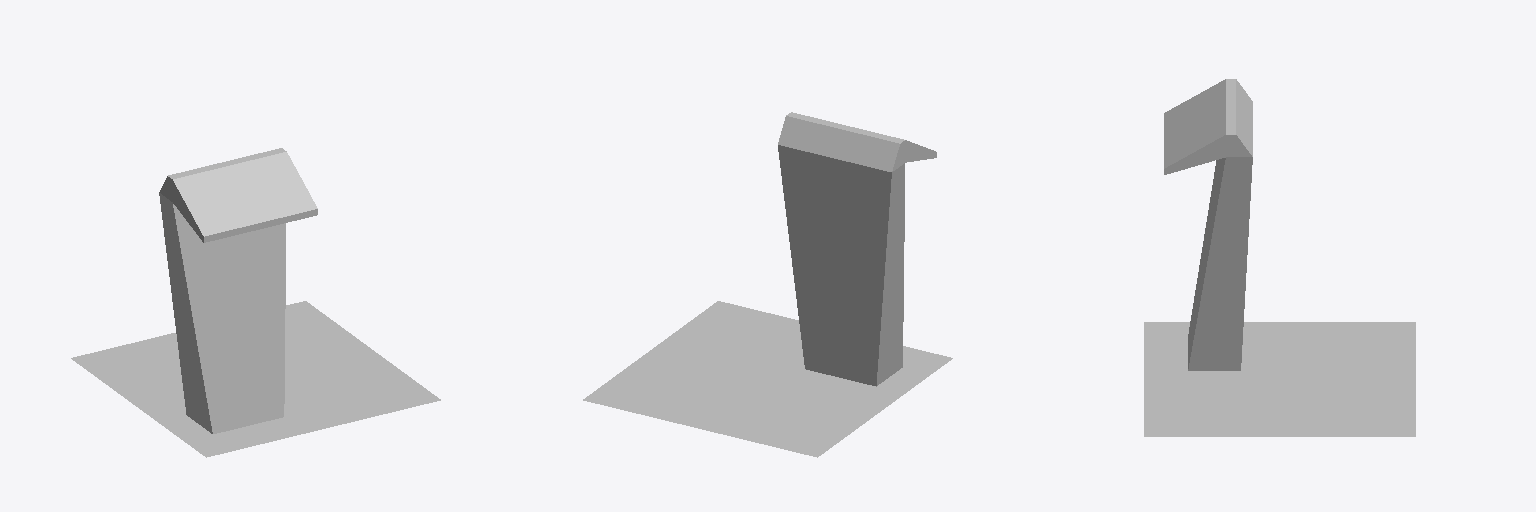
The model's file is logistics_station.obj.
3 renders of one model, left to right at view 1: azimuth 30°, elevation 25°; view 2: azimuth 150°, elevation 25°; view 3: azimuth 270°, elevation 25°, orthographic.
Parts seen in each view (by area): view 1: Cube, Reference_Plane; view 2: Cube, Reference_Plane; view 3: Reference_Plane, Cube.
Part boxes in pixels (x1,y1,x2,y2): Cube: (159,148,317,433); Reference_Plane: (71,301,440,457); Cube: (778,112,936,386); Reference_Plane: (583,301,952,457); Reference_Plane: (1144,322,1415,436); Cube: (1164,79,1252,370).
Size of the model in its own units: 1 by 1 by 1.